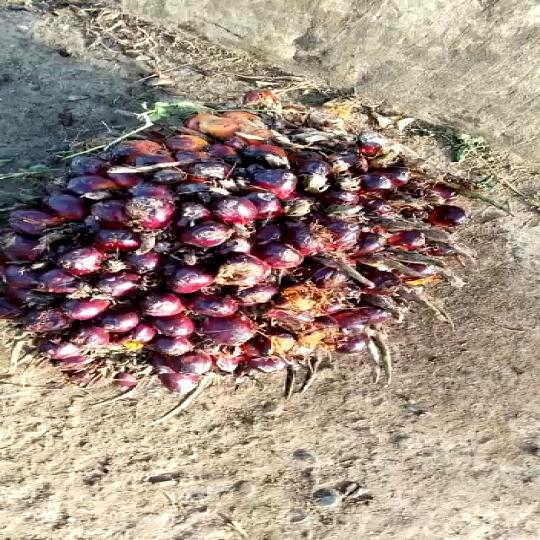kurang masak: (0, 80, 540, 409)
